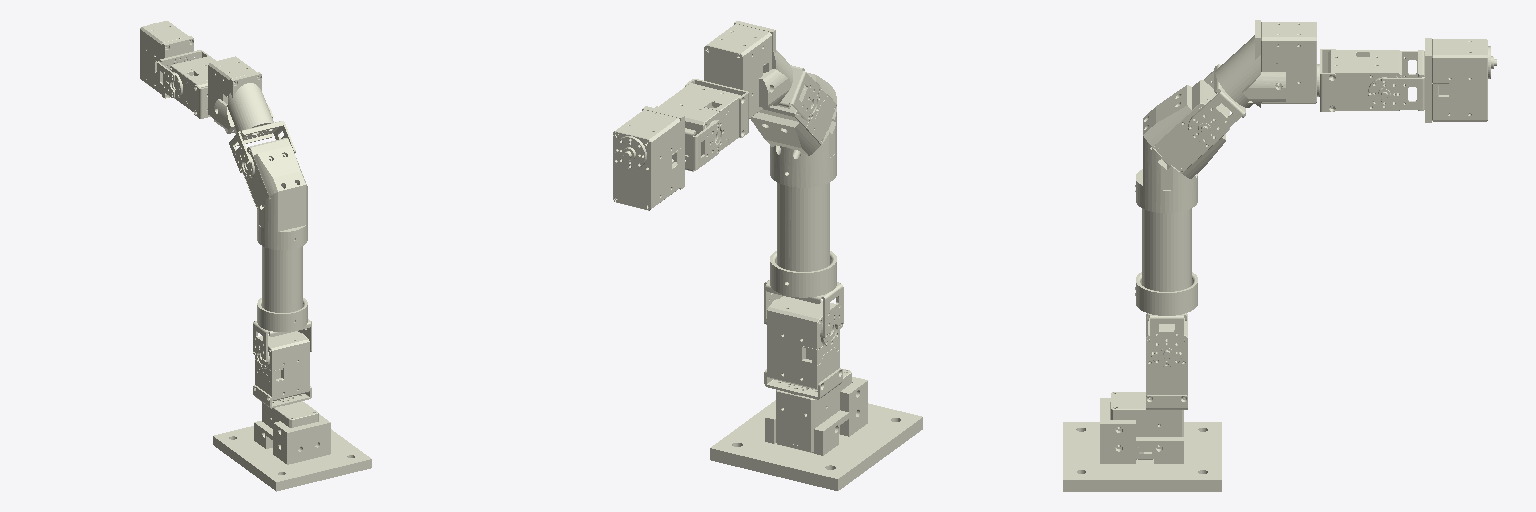
URDF robot description (Manipulator):
<?xml version="1.0" ?>
<!-- =================================================================================== -->
<!-- |    This document was autogenerated by xacro from robot.xacro                    | -->
<!-- |    EDITING THIS FILE BY HAND IS NOT RECOMMENDED                                 | -->
<!-- =================================================================================== -->
<robot name="Manipulator" xmlns:xacro="http://www.ros.org/wiki/xacro">
  <material name="black">
    <color rgba="0.0 0.0 0.0 1.0"/>
  </material>
  <material name="blue">
    <color rgba="0.2 0.2 0.8 1.0"/>
  </material>
  <material name="green">
    <color rgba="0.0 0.8 0.0 1.0"/>
  </material>
  <material name="grey">
    <color rgba="0.2 0.2 0.2 1.0"/>
  </material>
  <material name="silver">
    <color rgba="0.913725490196 0.913725490196 0.847058823529 1.0"/>
  </material>
  <material name="orange">
    <color rgba="1.0 0.423529411765 0.0392156862745 1.0"/>
  </material>
  <material name="brown">
    <color rgba="0.870588235294 0.811764705882 0.764705882353 1.0"/>
  </material>
  <material name="red">
    <color rgba="0.8 0.0 0.0 1.0"/>
  </material>
  <material name="white">
    <color rgba="1.0 1.0 1.0 1.0"/>
  </material>

  <!-- link 1 -->
  <link name="link1">
    <visual>
      <origin xyz="0 0 0" rpy="0 0 0"/>
      <geometry>
        <mesh filename="base_link.STL" scale="0.001 0.001 0.001"/>
      </geometry>
      <material name="silver"/>
    </visual>

    <collision>
      <origin xyz="0 0 0" rpy="0 0 0"/>
      <geometry>
        <mesh filename="base_link.STL" scale="0.001 0.001 0.001"/>
      </geometry>
    </collision>

    <inertial>
      <origin xyz="0.0000000e+00 -1.7653633e-04 -1.0030209e-03" rpy="0 0 0"/>
      <mass value="9.4360595e-01"/>
      <inertia ixx="1.0e-03" ixy="0.0" ixz="0.0" 
               iyx="0.0" iyy="1.0e-03" iyz="0.0" 
               izx="0.0" izy="0.0" izz="1.0e-03" />
    </inertial>
  </link>

  <!-- Joint 1 -->
  <joint name="joint1" type="revolute">
    <parent link="link1"/>
    <child link="link2"/>
    <origin xyz="0.0 0.0 0.0565" rpy="0 0 0"/>
    <axis xyz="0 0 1"/>
    <limit velocity="6.5" effort="1000" lower="-1.57" upper="1.57" />
    <dynamics damping="0.7"/>
  </joint>

  <!-- link 2 -->
  <link name="link2">
    <visual>
      <origin xyz="0 0 0" rpy="0 0 0"/>
      <geometry>
        <mesh filename="link1.STL" scale="0.001 0.001 0.001"/>
      </geometry>
      <material name="silver"/>
    </visual>

    <collision>
      <origin xyz="0 0 0" rpy="0 0 0"/>
      <geometry>
        <mesh filename="link1.STL" scale="0.001 0.001 0.001"/>
      </geometry>
    </collision>
    
    <inertial>
      <origin xyz="0.0000000e+00 -1.7653633e-04 -1.0030209e-03" rpy="0 0 0"/>
      <mass value="9.4360595e-01"/>
      <inertia ixx="1.5694005e-03" ixy="0.0" ixz="0.0" 
               iyx="0.0" iyy="4.5593385e-04" iyz="6.4581824e-09" 
               izx="0.0" izy="6.4581824e-09" izz="1.5561809e-03" />
    </inertial>
  </link>

  <!-- Joint 2 -->
  <joint name="joint2" type="revolute">
    <parent link="link2"/>
    <child link="link3"/>
    <origin xyz="0.0 0.0 0.0515" rpy="0 0 0"/>
    <axis xyz="1 0 0"/>
    <limit velocity="6.5" effort="1000" lower="-1.57" upper="1.57" />
    <dynamics damping="0.7"/>
  </joint>

  <!-- link 3 -->
  <link name="link3">
    <visual>
      <origin xyz="0 0 0" rpy="0 0 0"/>
      <geometry>
        <mesh filename="link2.STL" scale="0.001 0.001 0.001"/>
      </geometry>
      <material name="silver"/>
    </visual>

    <collision>
      <origin xyz="0 0 0" rpy="0 0 0"/>
      <geometry>
        <mesh filename="link2.STL" scale="0.001 0.001 0.001"/>
      </geometry>
    </collision>

    <inertial>
      <origin xyz="1.5751501e-02 -2.2073221e-04 1.9913687e-01" rpy="0 0 0"/>
      <mass value="1.3825862e+00"/>
      <inertia ixx="6.7630430e-02" ixy="-1.9988597e-05" ixz="-5.7477571e-03" 
               iyx="-1.9988597e-05" iyy="6.7208001e-02" iyz="7.4823203e-05" 
               izx="-5.7477571e-03" izy="7.4823203e-05" izz="2.6031353e-03" />
    </inertial>
  </link>

  <!-- Joint 3 -->
  <joint name="joint3" type="revolute">
    <parent link="link3"/>
    <child link="link4"/>
    <origin xyz="0.00000 0.02993 0.19707" rpy="0 0 0"/>
    <axis xyz="1 0 0"/>
    <limit velocity="6.5" effort="1000" lower="-1.57" upper="1.57" />
    <dynamics damping="0.7"/>
  </joint>

  <!-- link 4 -->
  <link name="link4">
    <visual>
      <origin xyz="0 0 0" rpy="0 0 0"/>
      <geometry>
        <mesh filename="link3.STL" scale="0.001 0.001 0.001"/>
      </geometry>
      <material name="silver"/>
    </visual>

    <collision>
      <origin xyz="0 0 0" rpy="0 0 0"/>
      <geometry>
        <mesh filename="link3.STL" scale="0.001 0.001 0.001"/>
      </geometry>
    </collision>

    <inertial>
      <origin xyz="3.0352597e-04 4.1703880e-05 3.8074728e-01" rpy="0 0 0"/>
      <mass value="1.2126965e+00"/>
      <inertia ixx="1.7985424e-01" ixy="-9.9417476e-07" ixz="-8.1564441e-05" 
               iyx="-9.9417476e-07" iyy="1.7948679e-01" iyz="-1.7705853e-05" 
               izx="-8.1564441e-05" izy="-1.7705853e-05" izz="1.1422079e-03" />
    </inertial>
  </link>

  <!-- Joint 4 -->
  <joint name="joint4" type="revolute">
    <parent link="link4"/>
    <child link="link5"/>
    <origin xyz="0.0 0.0915 0.02999" rpy="0 0 0"/>
    <axis xyz="0 1 0"/>
    <limit velocity="6.5" effort="1000" lower="-1.57" upper="1.57" />
    <dynamics damping="0.7"/>
  </joint>

  <!-- link 5 -->
  <link name="link5">
    <visual>
      <origin xyz="0 0 0" rpy="0 0 0"/>
      <geometry>
        <mesh filename="link4.STL" scale="0.001 0.001 0.001"/>
      </geometry>
      <material name="silver"/>
    </visual>

    <collision>
      <origin xyz="0 0 0" rpy="0 0 0"/>
      <geometry>
        <mesh filename="link4.STL" scale="0.001 0.001 0.001"/>
      </geometry>
    </collision>

    <inertial>
      <origin xyz="-2.1388493e-06 -2.2290515e-03 5.1387207e-01" rpy="0 0 0"/>
      <mass value="4.6635550e-01"/>
      <inertia ixx="1.2357713e-01" ixy="-1.9465317e-09" ixz="5.1228604e-07" 
               iyx="-1.9465317e-09" iyy="1.2339567e-01" iyz="5.3769657e-04" 
               izx="5.1228604e-07" izy="5.3769657e-04" izz="3.3216863e-04" />
    </inertial>
  </link>

  <!-- Joint 5 -->
  <joint name="joint5" type="revolute">
    <parent link="link5"/>
    <child link="link6"/>
    <origin xyz="0.0 0.0515 0.00000" rpy="0 0 0"/>
    <axis xyz="1 0 0"/>
    <limit velocity="6.5" effort="1000" lower="-1.57" upper="1.57" />
    <dynamics damping="0.7"/>
  </joint>

  <!-- link 6 -->
  <link name="link6">
    <visual>
      <origin xyz="0 0 0" rpy="0 0 0"/>
      <geometry>
        <mesh filename="link5.STL" scale="0.001 0.001 0.001"/>
      </geometry>
      <material name="silver"/>
    </visual>

    <collision>
      <origin xyz="0 0 0" rpy="0 0 0"/>
      <geometry>
        <mesh filename="link5.STL" scale="0.001 0.001 0.001"/>
      </geometry>
    </collision>

    <inertial>
      <origin xyz="-2.1268822e-06 1.8039922e-04 5.9028250e-01" rpy="0 0 0"/>
      <mass value="4.2561606e-01"/>
      <inertia ixx="1.4881319e-01" ixy="0.0000000e+00" ixz="5.3435266e-07" 
               iyx="0.0000000e+00" iyy="1.4872708e-01" iyz="-4.3708754e-05" 
               izx="5.3435266e-07" izy="-4.3708754e-05" izz="2.1040082e-04" />
    </inertial>
  </link>
  <!--
  <joint name="joint6" type="revolute">
    <parent link="link6"/>
    <child link="end_link"/>
    <origin xyz="0.12300 -0.04500 0.00000" rpy="0 0 0"/>
    <axis xyz="1 0 0"/>
    <limit velocity="6.5" effort="1000" lower="-1.57" upper="1.57" />
    <dynamics damping="0.7"/>
  </joint>


  <link name="end_link">
    <visual>
      <origin xyz="0.0 0.0 0.0" rpy="0 0 0" />
      <geometry>
        <mesh filename="package://UsefulHound/meshes/end_link.STL" scale="0.001 0.001 0.001"/>
      </geometry>
      <material name="silver"/>
    </visual>

    <collision>
      <origin xyz="0.0 0.0 0.0" rpy="0 0 0" />
      <geometry>
        <mesh filename="package://UsefulHound/meshes/end_link.STL" scale="0.001 0.001 0.001"/>
      </geometry>
    </collision>

    <inertial>
      <origin xyz="0.00337 0.00000 0.00000" rpy="0 0 0"/>
      <mass value="0.01919"/>
      <inertia ixx="1.25e-4" ixy="0.0" ixz="0.0" iyy="1.25e-4" iyz="0.0" izz="1.25e-4" />
    </inertial>
  </link>
  -->
</robot>

--- What the picture shows (computed from the rendered views, not written in the file) ---
The picture shows the robot from 3 angles, left to right: view 1: azimuth 30°, elevation 25°; view 2: azimuth 150°, elevation 25°; view 3: azimuth 270°, elevation 25°; orthographic projection.
Robot: Manipulator — 6 links, 5 joints (5 revolute); root link link1; default pose: every joint at zero.
Visible links, largest first — view 1: link3, link1, link4, link2, link6, link5; view 2: link1, link3, link6, link4, link2, link5; view 3: link3, link1, link4, link6, link5, link2.
Link boxes in pixels (x1=…): link3: x1=242, y1=138, x2=311, y2=362; link1: x1=213, y1=401, x2=371, y2=491; link4: x1=208, y1=56, x2=295, y2=172; link2: x1=253, y1=331, x2=311, y2=408; link6: x1=140, y1=21, x2=215, y2=98; link5: x1=170, y1=56, x2=214, y2=118; link1: x1=710, y1=369, x2=922, y2=490; link3: x1=750, y1=72, x2=843, y2=338; link6: x1=613, y1=106, x2=719, y2=210; link4: x1=704, y1=21, x2=820, y2=120; link2: x1=764, y1=296, x2=842, y2=399; link5: x1=657, y1=79, x2=748, y2=155; link3: x1=1135, y1=80, x2=1229, y2=355; link1: x1=1063, y1=392, x2=1221, y2=491; link4: x1=1191, y1=20, x2=1319, y2=140; link6: x1=1381, y1=38, x2=1496, y2=122; link5: x1=1320, y1=49, x2=1401, y2=111; link2: x1=1146, y1=314, x2=1187, y2=409.
Bounding box of the posed robot: 0.1098 × 0.3457 × 0.3798 m (x, y, z).
6 mesh visuals loaded from 6 distinct referenced files (6 binary STL).
